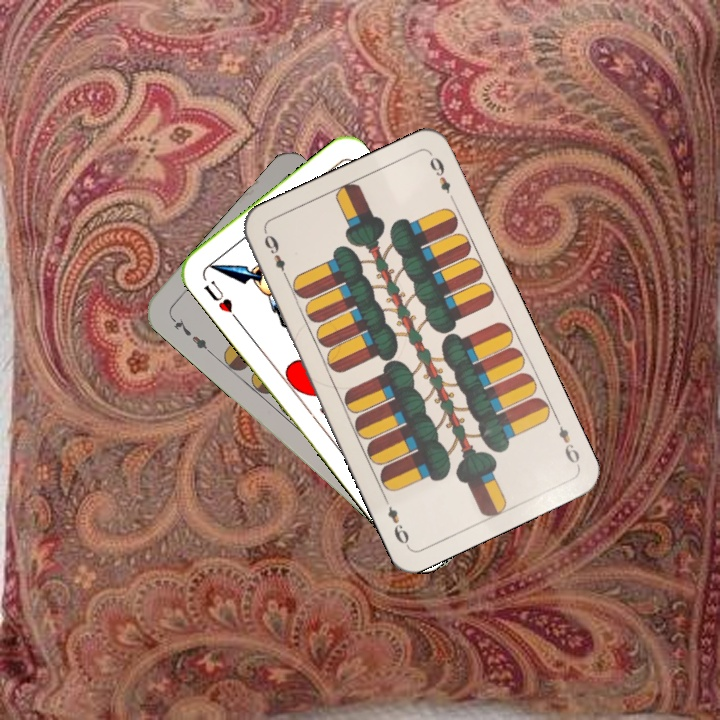E7: (166, 313, 215, 357)
E9: (551, 413, 583, 469), (260, 229, 292, 284)
HU: (199, 276, 241, 323)
